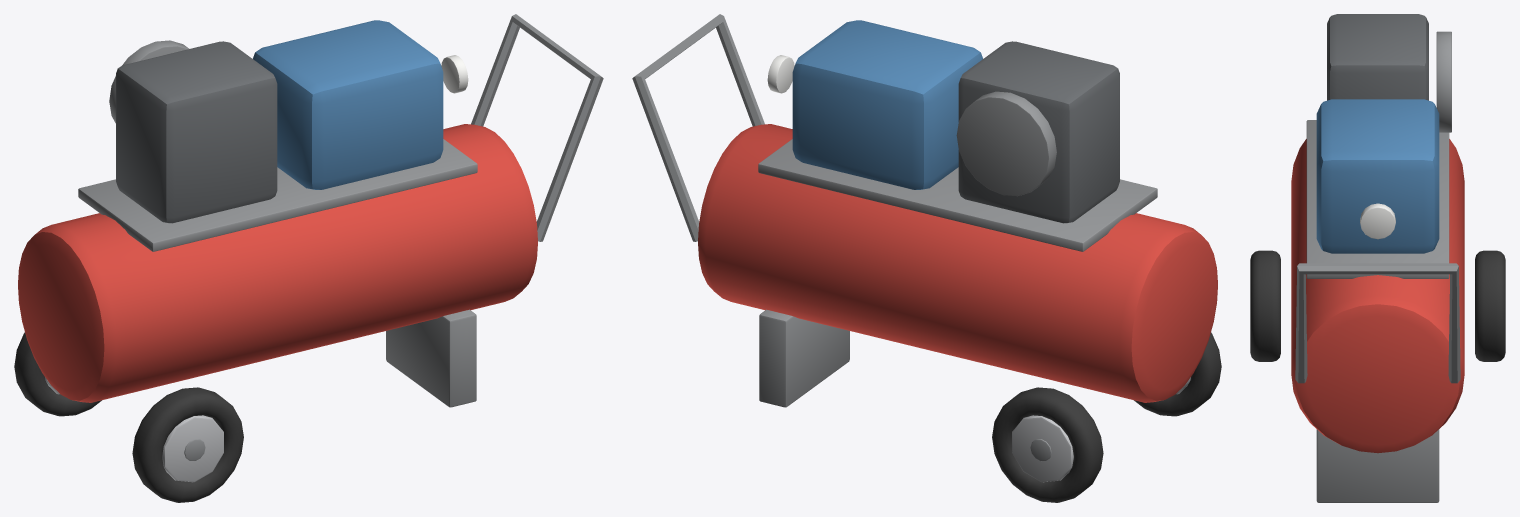
File: EQP-PEQ-007_anim.glb
3 views of the same model, side by side, from view 1: azimuth 30°, elevation 25°; view 2: azimuth 150°, elevation 25°; view 3: azimuth 270°, elevation 25° (orthographic). The views are drawn at different scales.
Parts seen in each view (by area): view 1: EQP-PEQ-007_anim2, EQP-PEQ-007_anim1, EQP-PEQ-007_anim0; view 2: EQP-PEQ-007_anim2, EQP-PEQ-007_anim1, EQP-PEQ-007_anim0; view 3: EQP-PEQ-007_anim2, EQP-PEQ-007_anim1, EQP-PEQ-007_anim0.
Boxes of the visible parts, left/top/right/bottom form: EQP-PEQ-007_anim2: left=14, top=14, right=603, bottom=502; EQP-PEQ-007_anim1: left=78, top=20, right=477, bottom=251; EQP-PEQ-007_anim0: left=109, top=40, right=189, bottom=123; EQP-PEQ-007_anim2: left=632, top=14, right=1221, bottom=502; EQP-PEQ-007_anim1: left=758, top=20, right=1157, bottom=251; EQP-PEQ-007_anim0: left=956, top=91, right=1056, bottom=196; EQP-PEQ-007_anim2: left=1250, top=139, right=1505, bottom=502; EQP-PEQ-007_anim1: left=1306, top=14, right=1449, bottom=278; EQP-PEQ-007_anim0: left=1436, top=31, right=1451, bottom=132.
Bounding box in the file's own units: 1.09 × 0.76 × 0.5.
